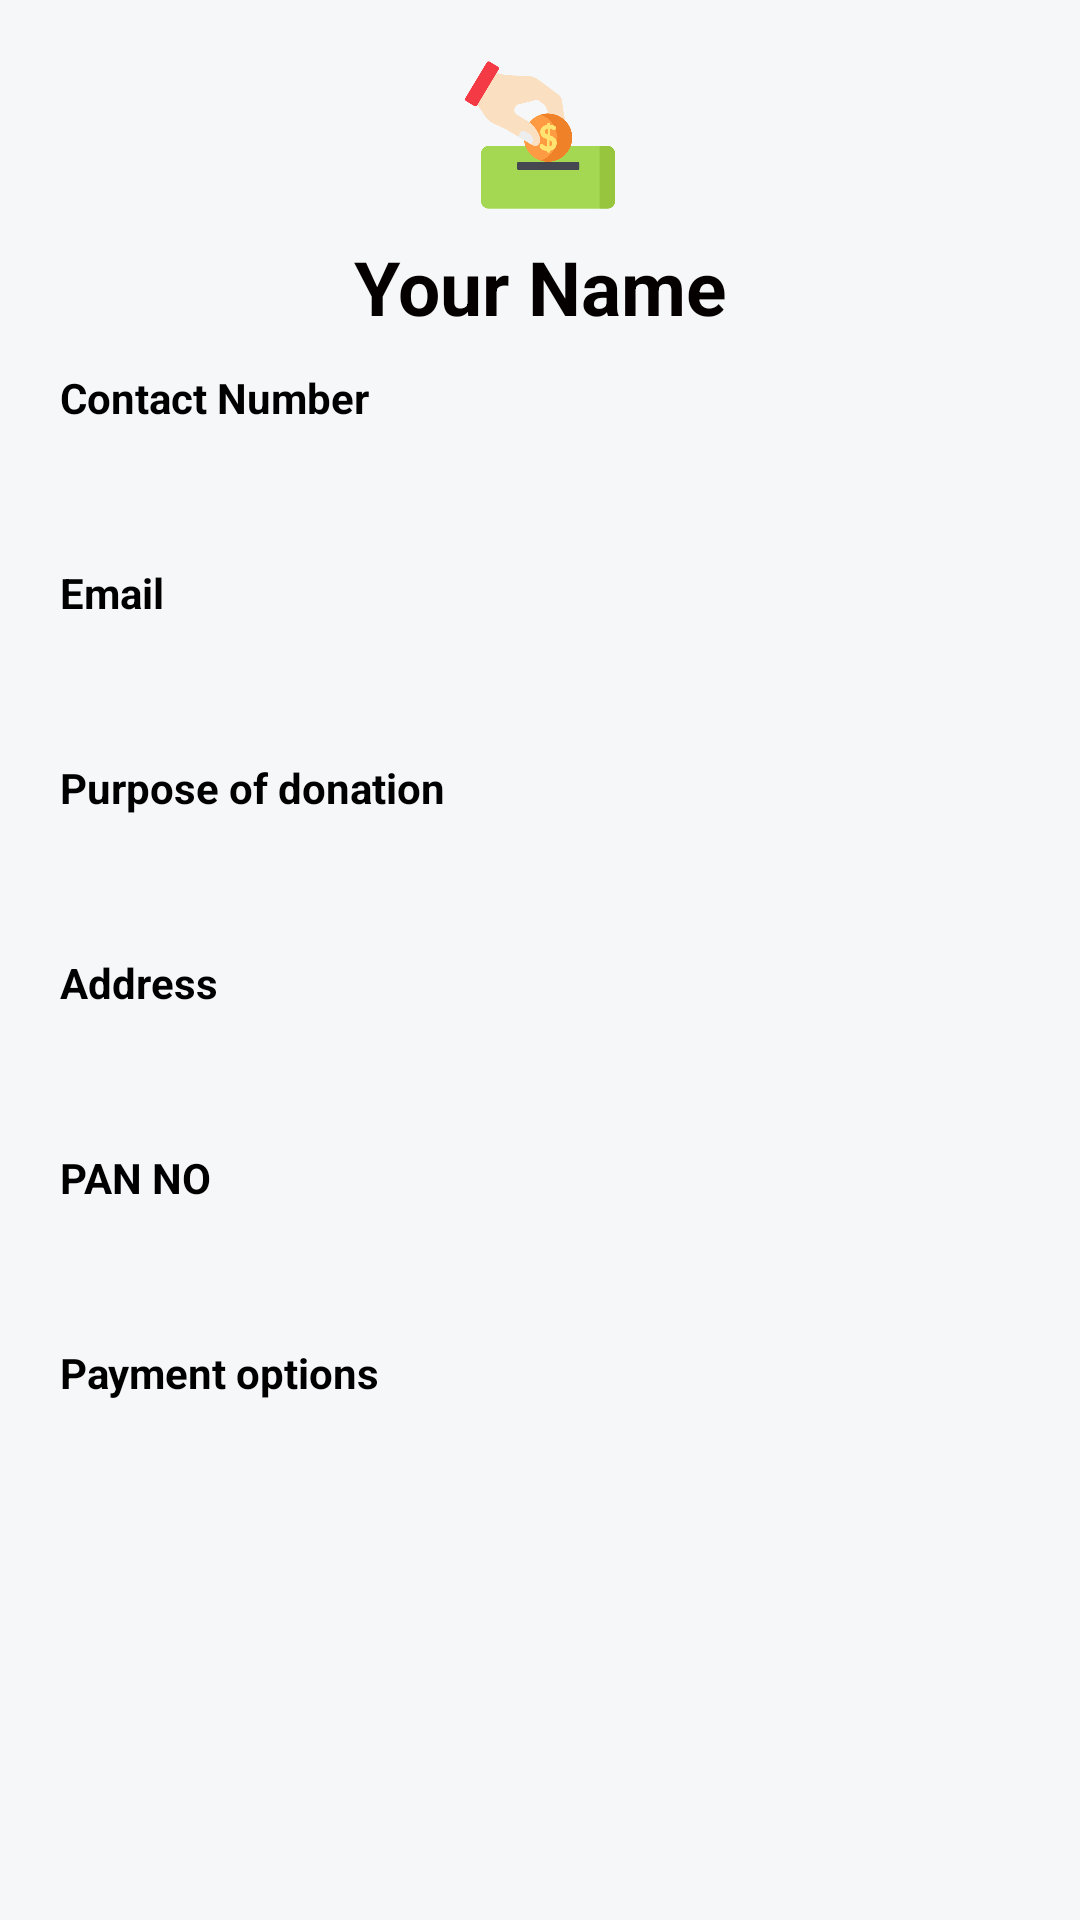

Icons on this 1080 x 1920 Android screen, each with its box as Rect(x1, y1, x2, y2):
donar: Rect(465, 61, 615, 209)
